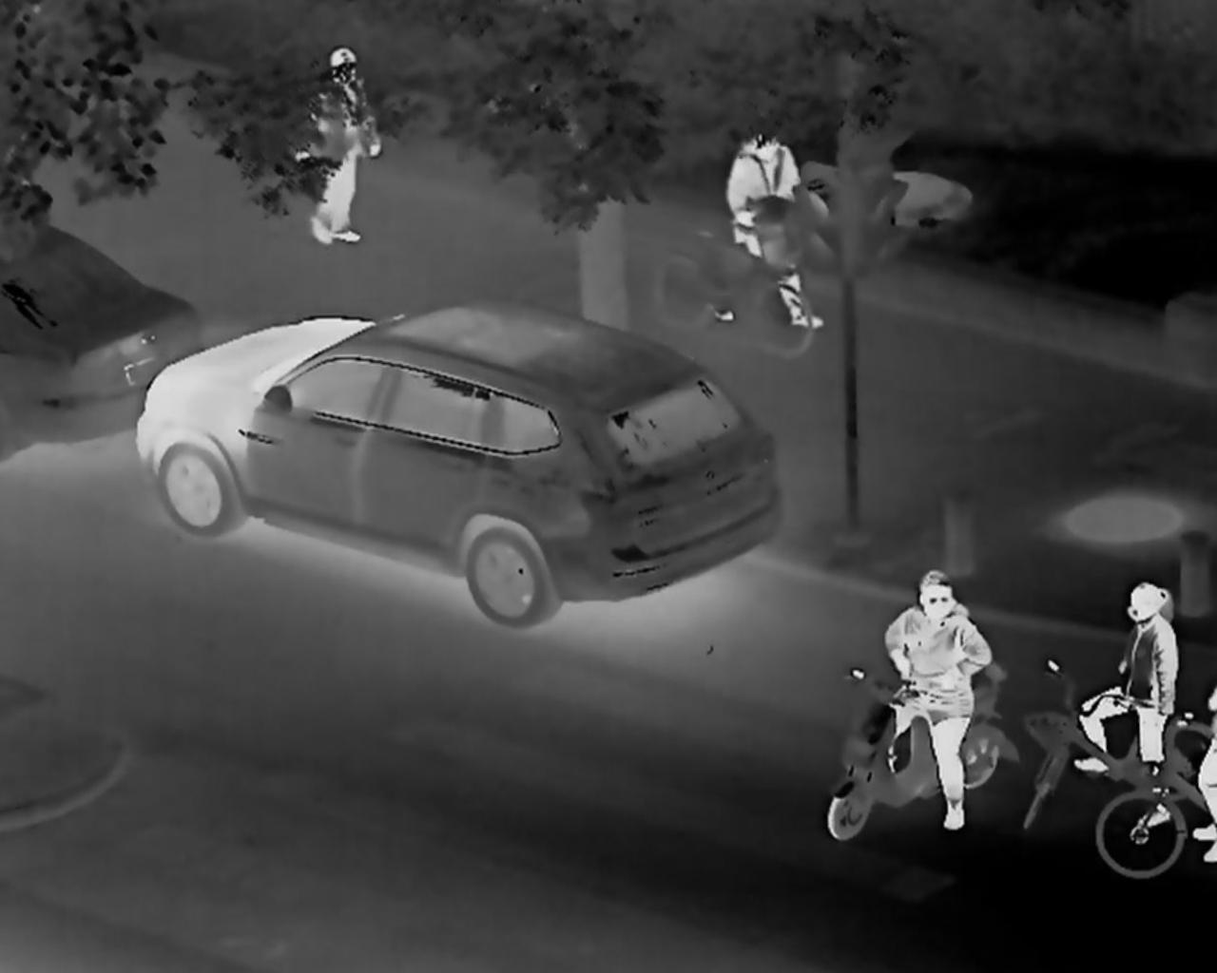person: (1063, 573, 1178, 829), (880, 565, 988, 834), (704, 108, 826, 335), (297, 41, 377, 247)
